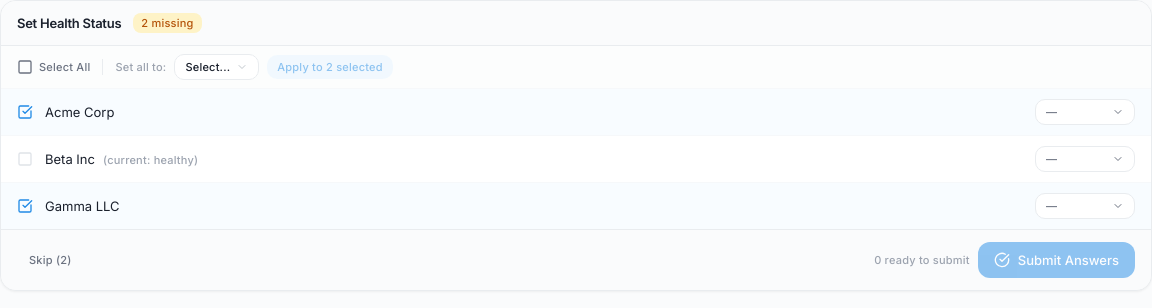
Test: BatchEnrichmentPanel › Bulk Value Application › 7. selecting bulk value updates dropdown text
Click the button "Select...". click: (217, 67)
box: [174,54,259,80]
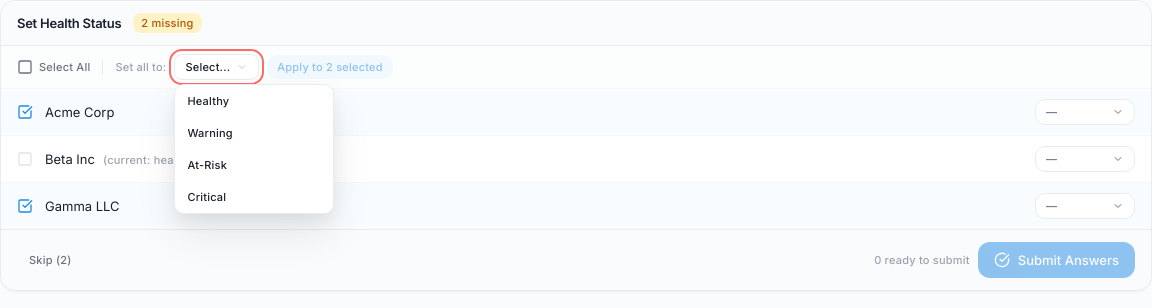
Click the button "Healthy". click: (254, 101)
box: [175,85,333,117]
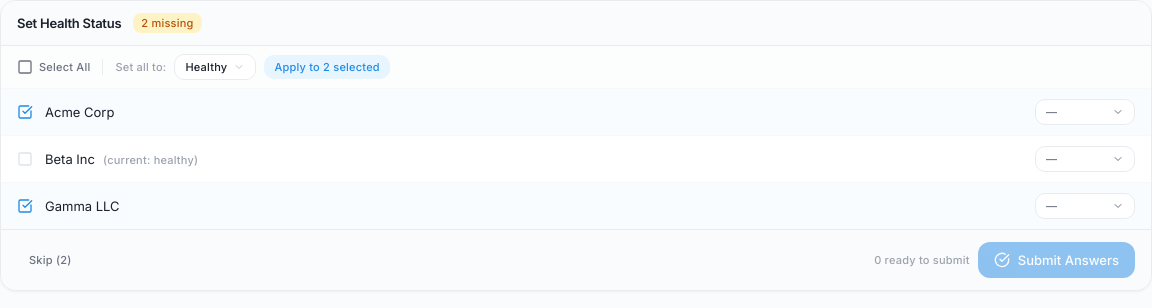
Expected: the button "Healthy" is shown, [174,54,256,80]
